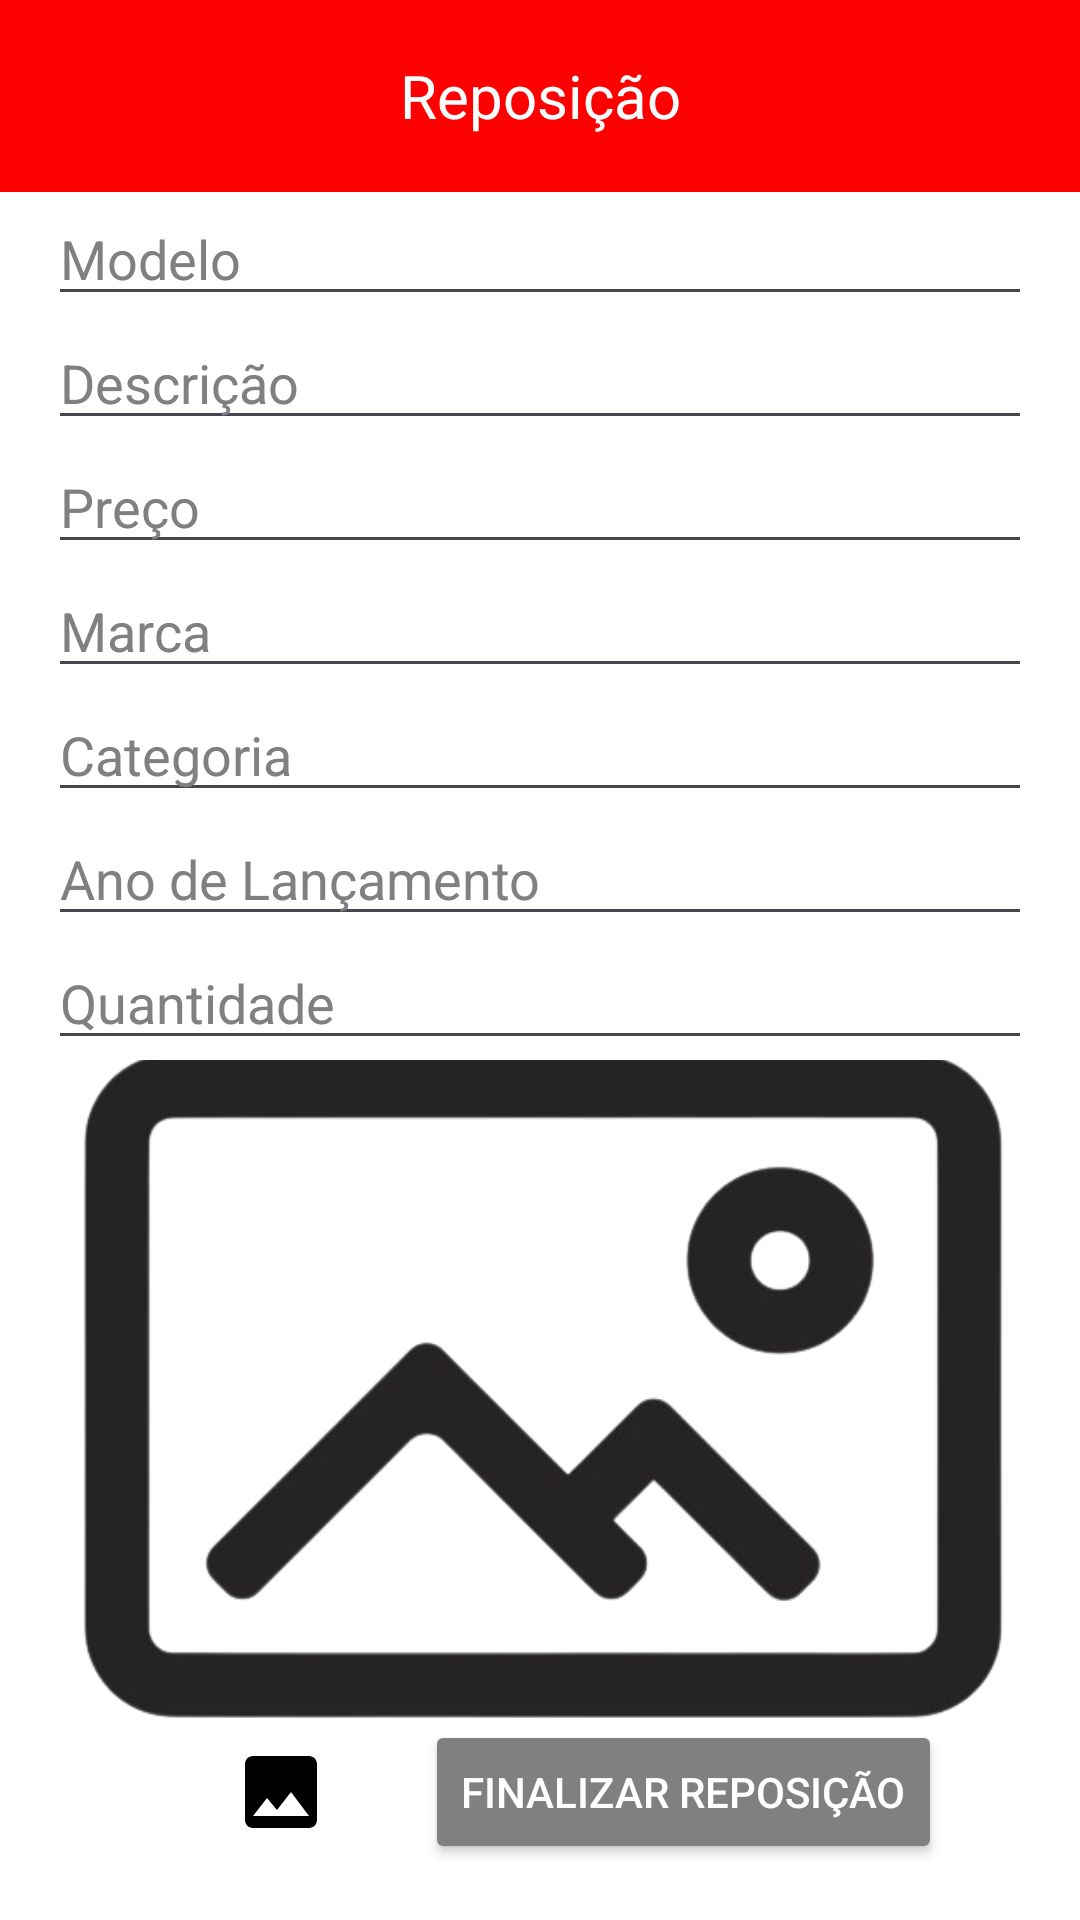

Named icons in this screenshot (1080x1920) and their centers, (x,y):
gallery: (281,1792)
